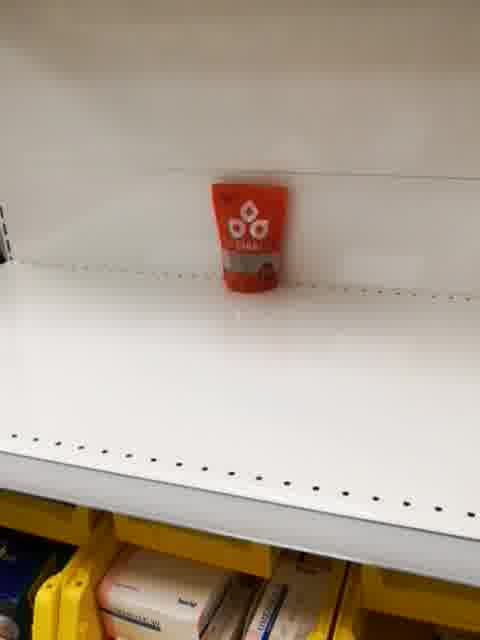whitechia: (209, 176, 291, 297)
